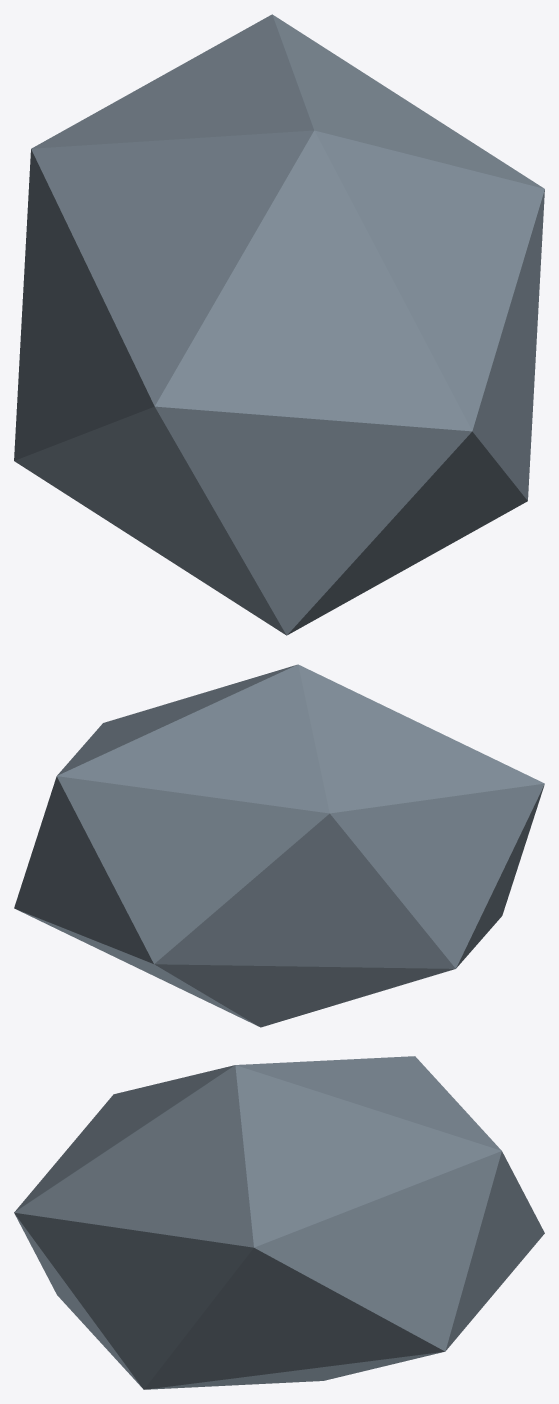
The model's file is INT_B_WallRubble_02_Stone_1.glb.
3 renders of one model, top to bottom at view 1: azimuth 30°, elevation 25°; view 2: azimuth 150°, elevation 25°; view 3: azimuth 270°, elevation 25°, orthographic. The views are drawn at different scales.
Visible parts, largest first — view 1: INT_B_WallRubble_02_Stone_1; view 2: INT_B_WallRubble_02_Stone_1; view 3: INT_B_WallRubble_02_Stone_1.
Part boxes in pixels (x1,y1,x2,y2): INT_B_WallRubble_02_Stone_1: (14, 14, 544, 635); INT_B_WallRubble_02_Stone_1: (14, 664, 544, 1027); INT_B_WallRubble_02_Stone_1: (14, 1056, 544, 1389).
Size of the model in its own units: 0.4502 by 0.3724 by 0.5606.
